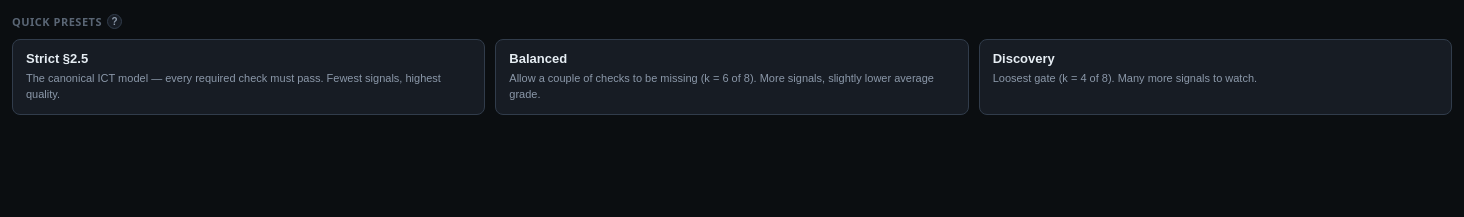
Scenario: PresetPicker › warns on the Discovery preset (lower average grade)
Click the button "Discovery" at coordinates (1215, 77), box [979,39,1452,115]
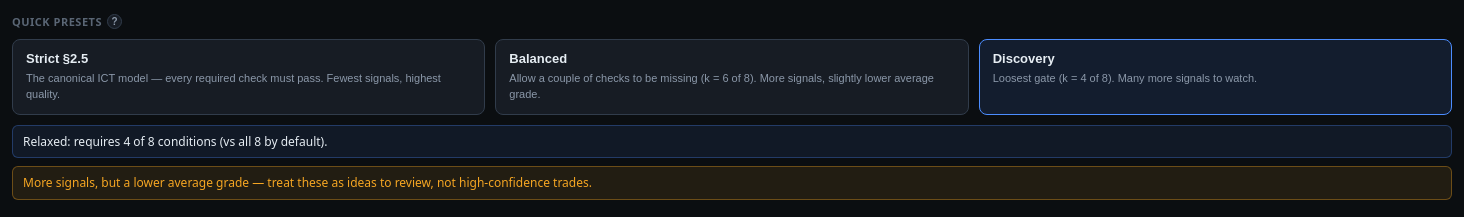
Expected: the text "lower average grade" is shown, [23,174,592,191]
